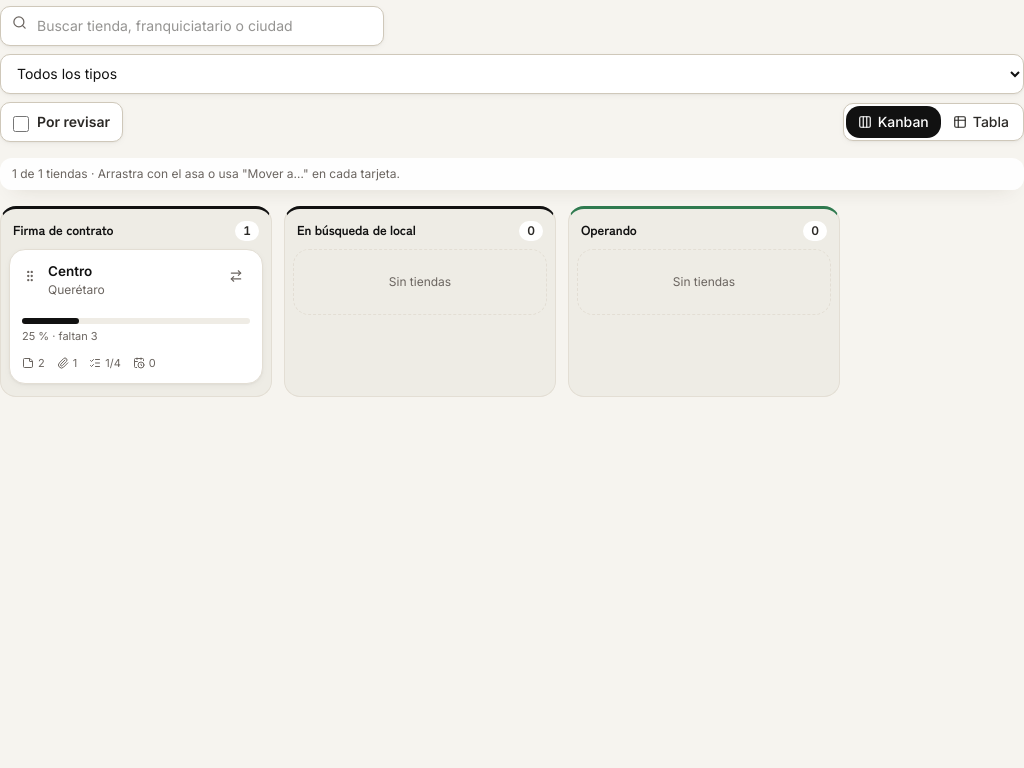
Test: mueve con el menú accesible "Mover a…" y anuncia el resultado
Click the button named "Mover Centro a otra etapa": click(236, 276) [222,262,250,290]
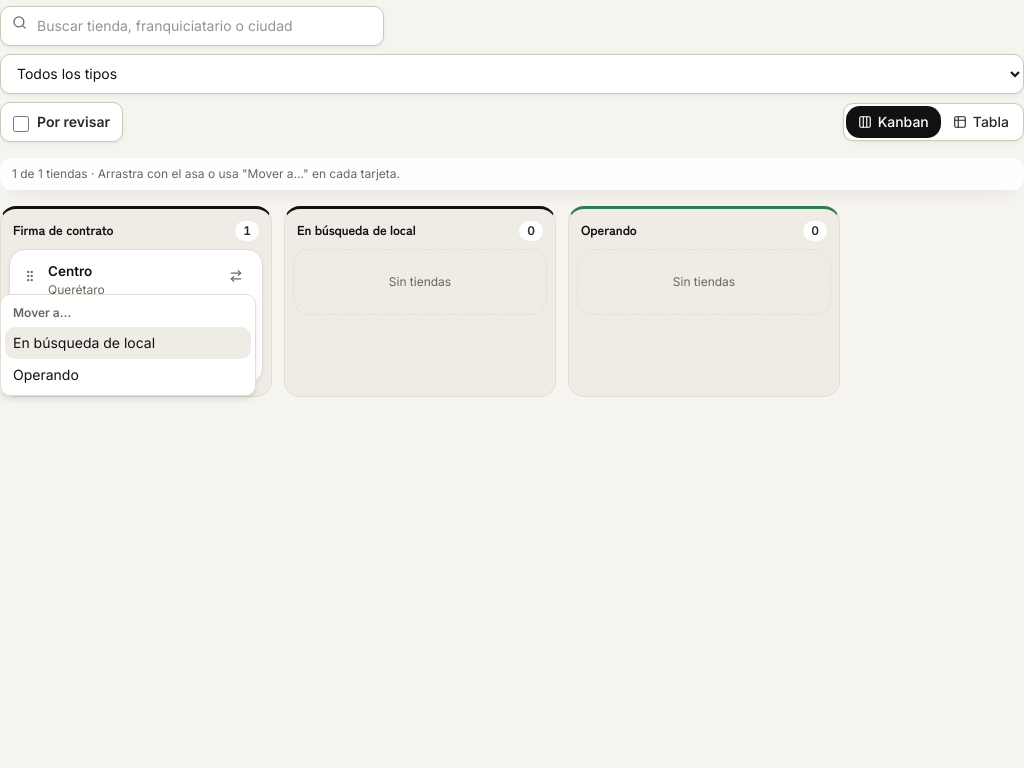
Click the button "Operando": click(128, 375) [5,359,251,391]
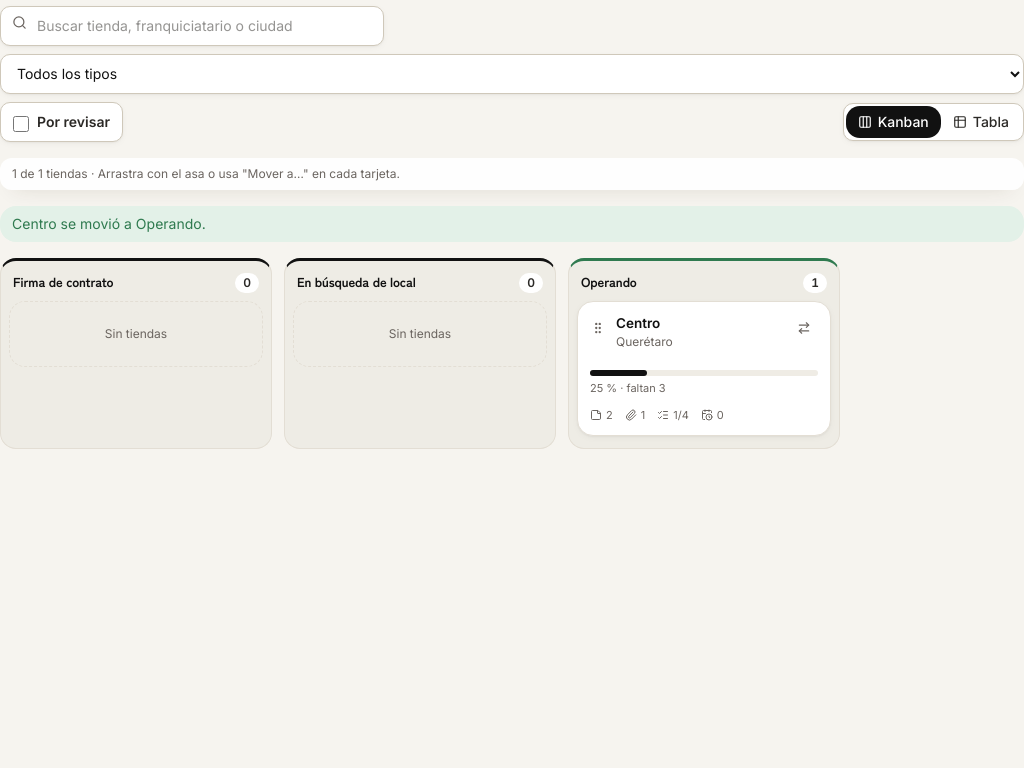
expect the link "Centro" is shown: met, box [616,315,660,331]
expect the text "Centro se movió a Operando." is shown: met, box [0,206,1023,242]
